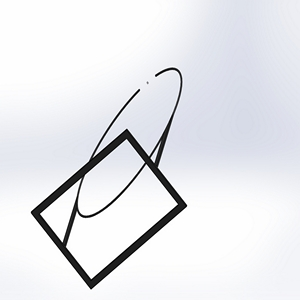circle: (29, 64, 190, 288)
